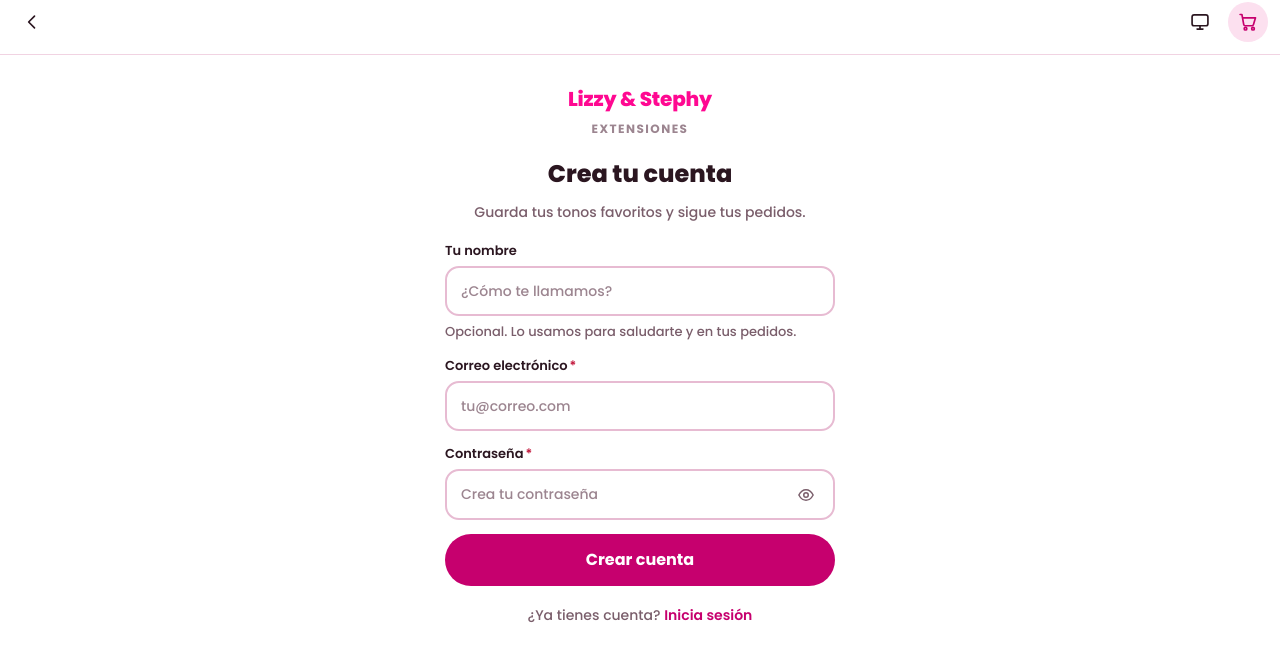
Test case: RegistroCliente · envío › el 429 del servidor se muestra tal cual
The width and height of the screenshot is (1280, 663).
Type "ana@example.com" into the field labelled "Correo electrónico*" at {"x": 640, "y": 406}, box [461, 383, 819, 429]
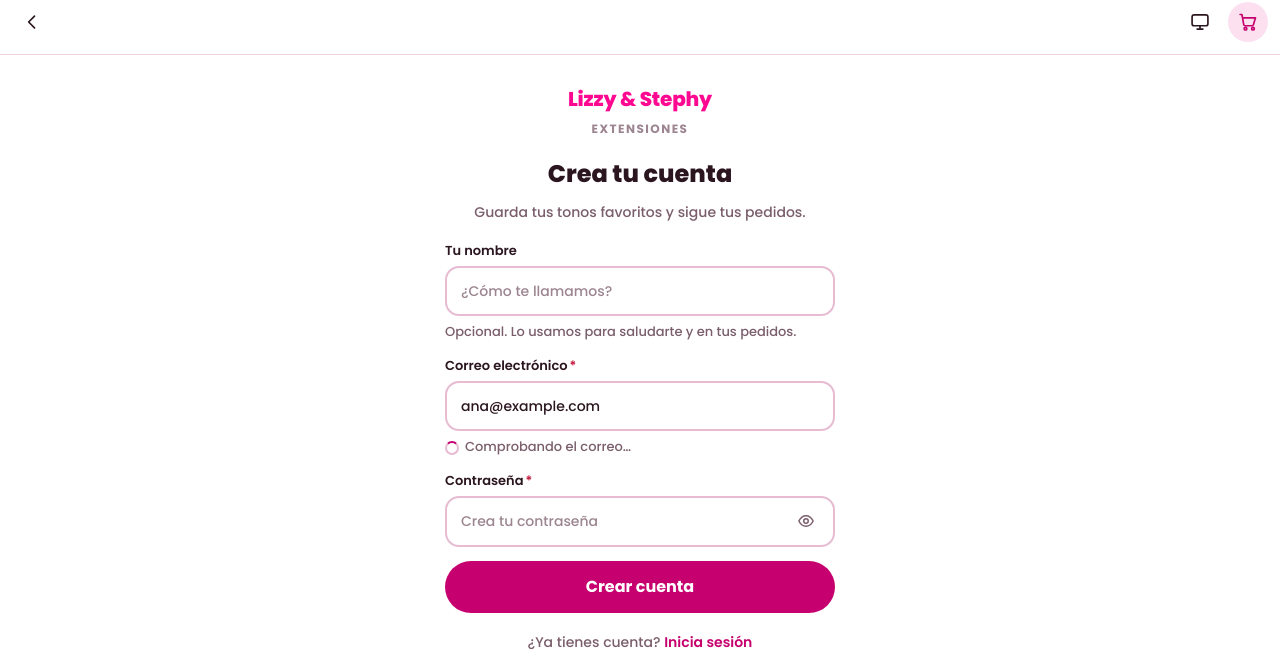
Type "bicicleta-verde-77" into the password field labelled "Contraseña*" at {"x": 623, "y": 521}, box [461, 498, 785, 544]
(page scrolled)
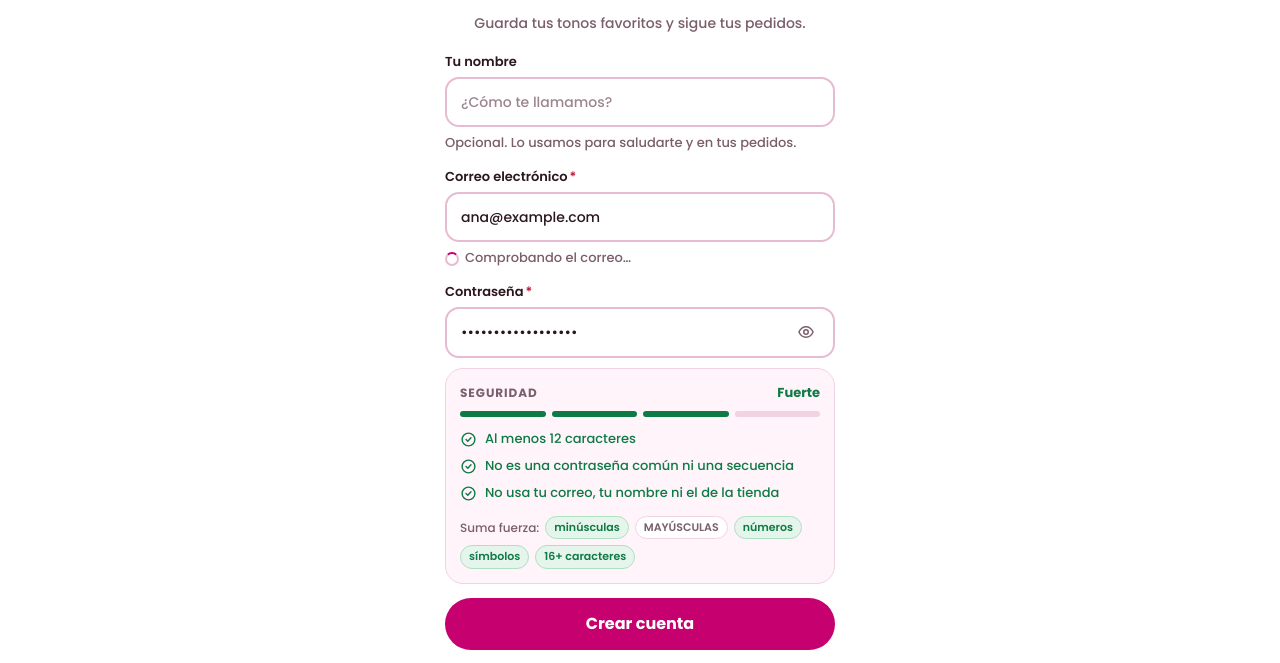
Click the button "Crear cuenta" at {"x": 640, "y": 624}, box [445, 598, 835, 650]
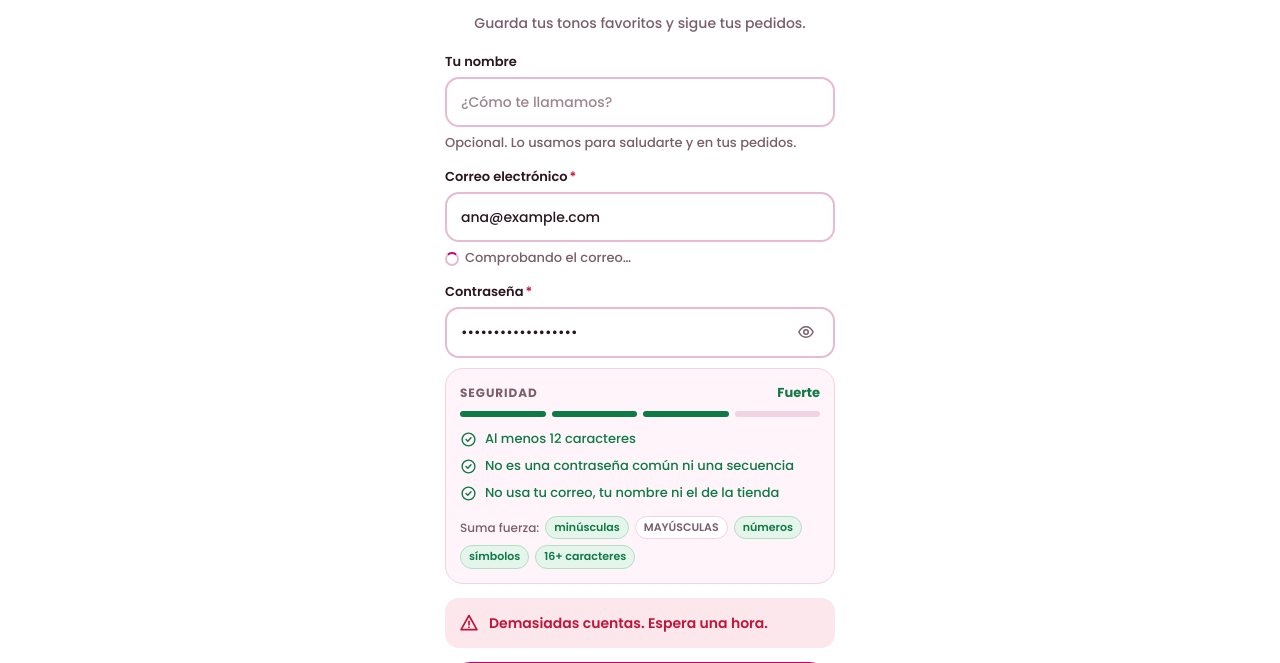
Check: the text "Demasiadas cuentas. Espera una hora." is shown, box [445, 598, 835, 648]
